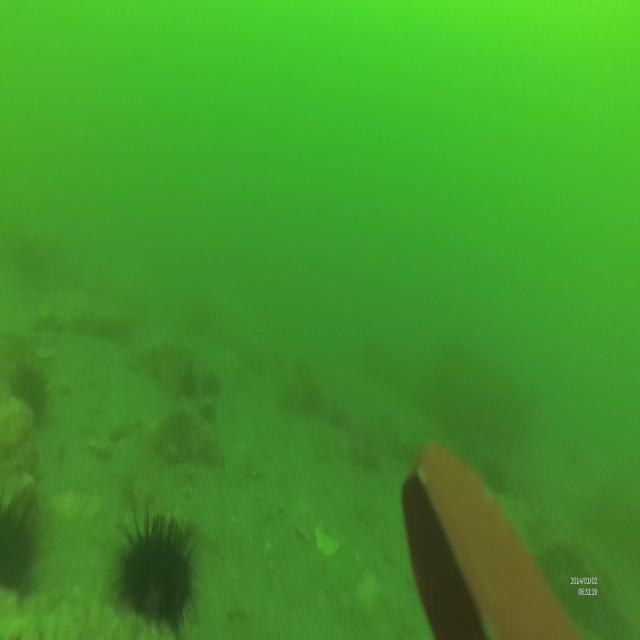echinus: (112, 504, 198, 640), (0, 480, 41, 595), (7, 356, 50, 424)
